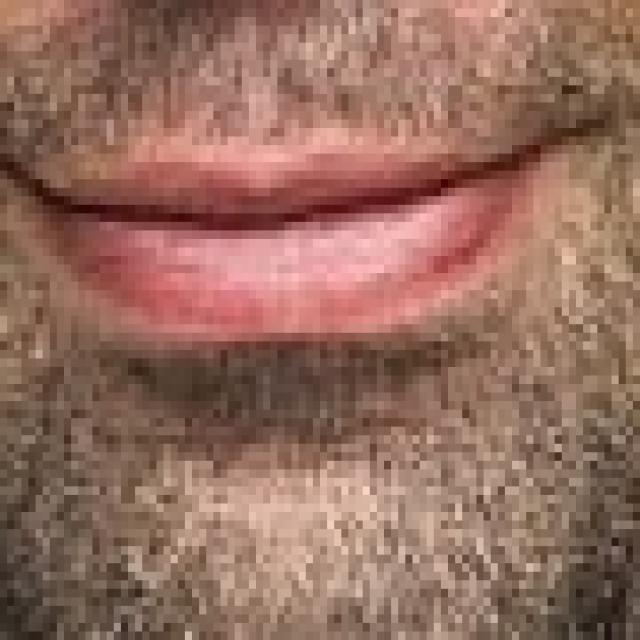closed-mouth: (0, 119, 562, 350)
